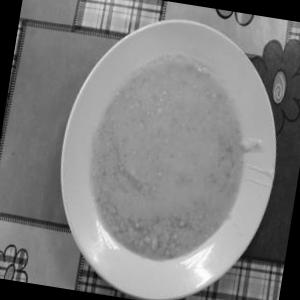porridge: (66, 41, 272, 284)
